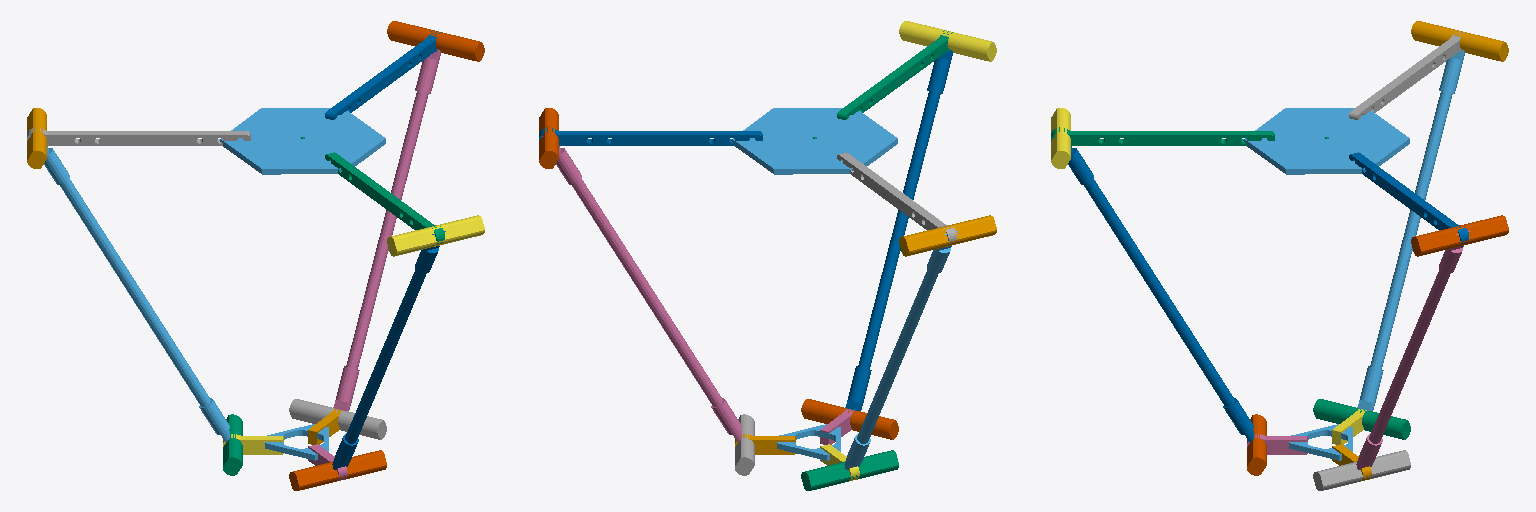
--- What the picture shows (computed from the rendered views, not written in the file) ---
3 views of the same robot in one strip: view 1: azimuth 30°, elevation 25°; view 2: azimuth 150°, elevation 25°; view 3: azimuth 270°, elevation 25° (orthographic).
Model delta with 21 links and 20 joints (15 revolute, 3 prismatic, 2 fixed), rooted at world, posed all joints at 0.
Links seen in each view (by area): view 1: base_link, passive_arm_3, passive_arm_2, passive_arm_1, active_arm_2, active_arm_3, active_arm_1, parallel_up_1, parallel_up_3, parallel_down_1, parallel_down_3, parallel_up_2 (+4 smaller); view 2: base_link, passive_arm_1, passive_arm_3, passive_arm_2, active_arm_3, active_arm_1, active_arm_2, parallel_up_2, parallel_up_1, parallel_down_2, parallel_down_1, parallel_up_3 (+3 smaller); view 3: base_link, passive_arm_2, passive_arm_1, passive_arm_3, active_arm_1, active_arm_2, active_arm_3, parallel_up_3, parallel_up_2, parallel_down_3, parallel_down_2, parallel_up_1 (+4 smaller).
Boxes of the visible links, x1=… form: base_link: x1=220, y1=108, x2=385, y2=174; passive_arm_3: x1=333, y1=49, x2=440, y2=427; passive_arm_2: x1=30, y1=136, x2=229, y2=442; passive_arm_1: x1=332, y1=231, x2=445, y2=469; active_arm_2: x1=27, y1=127, x2=250, y2=145; active_arm_3: x1=325, y1=30, x2=440, y2=119; active_arm_1: x1=325, y1=152, x2=444, y2=243; parallel_up_1: x1=387, y1=215, x2=484, y2=256; parallel_up_3: x1=387, y1=21, x2=484, y2=61; parallel_down_1: x1=289, y1=450, x2=386, y2=490; parallel_down_3: x1=289, y1=399, x2=386, y2=439; parallel_up_2: x1=27, y1=108, x2=46, y2=168; base_link: x1=732, y1=108, x2=897, y2=174; passive_arm_1: x1=845, y1=49, x2=952, y2=427; passive_arm_3: x1=542, y1=136, x2=741, y2=442; passive_arm_2: x1=844, y1=231, x2=957, y2=469; active_arm_3: x1=539, y1=127, x2=762, y2=145; active_arm_1: x1=837, y1=30, x2=952, y2=119; active_arm_2: x1=837, y1=152, x2=956, y2=243; parallel_up_2: x1=899, y1=215, x2=996, y2=256; parallel_up_1: x1=899, y1=21, x2=996, y2=61; parallel_down_2: x1=801, y1=450, x2=898, y2=490; parallel_down_1: x1=801, y1=399, x2=898, y2=439; parallel_up_3: x1=539, y1=108, x2=558, y2=168; base_link: x1=1244, y1=108, x2=1409, y2=174; passive_arm_2: x1=1357, y1=49, x2=1464, y2=427; passive_arm_1: x1=1054, y1=136, x2=1253, y2=442; passive_arm_3: x1=1356, y1=231, x2=1469, y2=469; active_arm_1: x1=1051, y1=127, x2=1274, y2=145; active_arm_2: x1=1349, y1=30, x2=1464, y2=119; active_arm_3: x1=1349, y1=152, x2=1468, y2=243; parallel_up_3: x1=1411, y1=215, x2=1508, y2=256; parallel_up_2: x1=1411, y1=21, x2=1508, y2=61; parallel_down_3: x1=1313, y1=450, x2=1410, y2=490; parallel_down_2: x1=1313, y1=399, x2=1410, y2=439; parallel_up_1: x1=1051, y1=108, x2=1070, y2=168.
Size in the robot's own frame: 0.26 by 0.2252 by 0.1762 metres.
17 mesh visuals loaded from 7 distinct referenced files (7 binary STL).

URDF robot description (delta):
<?xml version="1.0" ?>
<!-- =================================================================================== -->
<!-- |    This document was autogenerated by xacro from delta.urdf.xacro               | -->
<!-- |    EDITING THIS FILE BY HAND IS NOT RECOMMENDED                                 | -->
<!-- =================================================================================== -->
<robot name="delta">
  <gazebo>
    <plugin filename="libarm_robot_hw_sim.so" name="arm_ros_control">
      <robotNamespace>/</robotNamespace>
      <robotSimType>arm_gazebo/ArmRobotHWSim</robotSimType>
    </plugin>
  </gazebo>
  <link name="world"/>
  <link name="base_link">
    <visual>
      <origin rpy="0 0 0" xyz="0 0 0"/>
      <geometry>
        <mesh filename="package://delta/meshes/base_link.stl" scale="0.001 0.001 0.001"/>
      </geometry>
    </visual>
    <collision>
      <origin rpy="0 0 0" xyz="0. 0 0."/>
      <geometry>
        <mesh filename="package://delta/meshes/base_link.stl" scale="0.0001 0.0001 0.0001"/>
      </geometry>
    </collision>
    <inertial>
      <mass value="0.101"/>
      <origin xyz="0.0 0.0 -0.0015"/>
      <inertia ixx="3.5130112e-05" ixy="0.0" ixz="7.391e-19" iyy="3.5130112e-05" iyz="0.0" izz="7.0108029e-05"/>
    </inertial>
  </link>
  <joint name="fix_base" type="fixed">
    <parent link="world"/>
    <child link="base_link"/>
    <origin rpy="0 0 0" xyz="0. 0. 0."/>
  </joint>
  <link name="active_arm_1">
    <visual>
      <origin rpy="0 0 0" xyz="0 0 0"/>
      <geometry>
        <mesh filename="package://delta/meshes/active_arm.stl" scale="0.001 0.001 0.001"/>
      </geometry>
    </visual>
    <collision>
      <origin rpy="0 0 0" xyz="0. 0. 0."/>
      <geometry>
        <mesh filename="package://delta/meshes/active_arm.stl" scale="0.0001 0.0001 0.0001"/>
      </geometry>
    </collision>
    <inertial>
      <mass value="0.00457"/>
      <origin xyz="0.0 -0.042671 0.0"/>
      <inertia ixx="4.714e-06" ixy="0.0" ixz="0.0" iyy="2.577e-08" iyz="-8.235e-18" izz="4.707e-06"/>
    </inertial>
  </link>
  <link name="parallel_up_1">
    <visual>
      <origin rpy="0 0 0" xyz="0 0 0"/>
      <geometry>
        <mesh filename="package://delta/meshes/parallel_up.stl" scale="0.001 0.001 0.001"/>
      </geometry>
    </visual>
    <collision>
      <origin rpy="0 0 0" xyz="0. 0 0."/>
      <geometry>
        <mesh filename="package://delta/meshes/parallel_up.stl" scale="0.0001 0.0001 0.0001"/>
      </geometry>
    </collision>
    <inertial>
      <mass value="0.027"/>
      <origin xyz="0.0 0.0 0.0"/>
      <inertia ixx="3.16967e-07" ixy="0.0" ixz="0.0" iyy="5.926399e-06" iyz="2.4474e-08" izz="5.898139e-06"/>
    </inertial>
  </link>
  <link name="passive_arm_1">
    <visual>
      <origin rpy="0 0 0" xyz="0 0 0"/>
      <geometry>
        <mesh filename="package://delta/meshes/passive_arm.stl" scale="0.001 0.001 0.001"/>
      </geometry>
    </visual>
    <collision>
      <origin rpy="0 0 0" xyz="0 0 0"/>
      <geometry>
        <mesh filename="package://delta/meshes/passive_arm.stl" scale="0.0001 0.0001 0.0001"/>
      </geometry>
    </collision>
    <inertial>
      <mass value="0.011"/>
      <origin xyz="-0.00168 0.096 0.0"/>
      <inertia ixx="4.4636101e-05" ixy="7.8174e-08" ixz="0.0" iyy="8.2492e-08" iyz="1.379e-19" izz="4.4642e-05"/>
    </inertial>
  </link>
  <link name="parallel_down_1">
    <visual>
      <origin rpy="0 0 0" xyz="0 0 0"/>
      <geometry>
        <mesh filename="package://delta/meshes/parallel_down.stl" scale="0.001 0.001 0.001"/>
      </geometry>
    </visual>
    <collision>
      <origin rpy="0 0 0" xyz="0 0 0"/>
      <geometry>
        <mesh filename="package://delta/meshes/parallel_down.stl" scale="0.0001 0.0001 0.0001"/>
      </geometry>
    </collision>
    <inertial>
      <mass value="0.027"/>
      <origin xyz="0.0 0.0 0.0"/>
      <inertia ixx="3.16967e-07" ixy="1.095e-10" ixz="1.29e-10" iyy="5.926399e-06" iyz="2.4474e-08" izz="5.898139e-06"/>
    </inertial>
  </link>
  <link name="move_base_1">
    <visual>
      <origin rpy="0 0 0" xyz="0 0 0"/>
      <geometry>
        <mesh filename="package://delta/meshes/move_base.stl" scale="0.001 0.001 0.001"/>
      </geometry>
    </visual>
    <collision>
      <origin rpy="0 0 0" xyz="0 0 0"/>
      <geometry>
        <mesh filename="package://delta/meshes/move_base.stl" scale="0.0001 0.0001 0.0001"/>
      </geometry>
    </collision>
    <inertial>
      <mass value="0.007"/>
      <origin xyz="0.0 0.012536 0.0"/>
      <inertia ixx="4.91052e-07" ixy="0.0" ixz="0.0" iyy="6.2663e-08" iyz="3.4e-11" izz="4.59974e-07"/>
    </inertial>
  </link>
  <joint name="active_joint1" type="revolute">
    <parent link="base_link"/>
    <child link="active_arm_1"/>
    <origin rpy="0 0 0" xyz="0 -0.040721 0"/>
    <axis xyz="1 0 0"/>
    <limit effort="1" lower="-3.14" upper="3.14" velocity="1"/>
  </joint>
  <joint name="parallel_up_a_joint1" type="revolute">
    <parent link="active_arm_1"/>
    <child link="parallel_up_1"/>
    <origin rpy="-1.04619753 0 0" xyz="0 -0.09 0"/>
    <axis xyz="1 0 0"/>
    <limit effort="1" lower="-3.14" upper="3.14" velocity="1"/>
  </joint>
  <joint name="parallel_up_b_joint1" type="revolute">
    <parent link="parallel_up_1"/>
    <child link="passive_arm_1"/>
    <origin rpy="0. 0 0" xyz="0 0 0"/>
    <axis xyz="0 0 1"/>
    <limit effort="1" lower="-3.14" upper="3.14" velocity="1"/>
  </joint>
  <joint name="parallel_down_b_joint1" type="revolute">
    <parent link="passive_arm_1"/>
    <child link="parallel_down_1"/>
    <origin rpy="0 0 0" xyz="0 0.192 0"/>
    <axis xyz="0 0 1"/>
    <limit effort="1" lower="-3.14" upper="3.14" velocity="1"/>
  </joint>
  <joint name="parallel_down_a_joint1" type="revolute">
    <parent link="parallel_down_1"/>
    <child link="move_base_1"/>
    <origin rpy="1.04619753 0 0" xyz="0 0 0"/>
    <axis xyz="1 0 0"/>
    <limit effort="1" lower="-3.14" upper="3.14" velocity="1"/>
  </joint>
  <link name="active_arm_2">
    <visual>
      <origin rpy="0 0 0" xyz="0 0 0"/>
      <geometry>
        <mesh filename="package://delta/meshes/active_arm.stl" scale="0.001 0.001 0.001"/>
      </geometry>
    </visual>
    <collision>
      <origin rpy="0 0 0" xyz="0. 0. 0."/>
      <geometry>
        <mesh filename="package://delta/meshes/active_arm.stl" scale="0.0001 0.0001 0.0001"/>
      </geometry>
    </collision>
    <inertial>
      <mass value="0.00457"/>
      <origin xyz="0.0 -0.042671 0.0"/>
      <inertia ixx="4.714e-06" ixy="0.0" ixz="0.0" iyy="2.577e-08" iyz="-8.235e-18" izz="4.707e-06"/>
    </inertial>
  </link>
  <link name="parallel_up_2">
    <visual>
      <origin rpy="0 0 0" xyz="0 0 0"/>
      <geometry>
        <mesh filename="package://delta/meshes/parallel_up.stl" scale="0.001 0.001 0.001"/>
      </geometry>
    </visual>
    <collision>
      <origin rpy="0 0 0" xyz="0. 0 0."/>
      <geometry>
        <mesh filename="package://delta/meshes/parallel_up.stl" scale="0.0001 0.0001 0.0001"/>
      </geometry>
    </collision>
    <inertial>
      <mass value="0.027"/>
      <origin xyz="0.0 0.0 0.0"/>
      <inertia ixx="3.16967e-07" ixy="0.0" ixz="0.0" iyy="5.926399e-06" iyz="2.4474e-08" izz="5.898139e-06"/>
    </inertial>
  </link>
  <link name="passive_arm_2">
    <visual>
      <origin rpy="0 0 0" xyz="0 0 0"/>
      <geometry>
        <mesh filename="package://delta/meshes/passive_arm.stl" scale="0.001 0.001 0.001"/>
      </geometry>
    </visual>
    <collision>
      <origin rpy="0 0 0" xyz="0 0 0"/>
      <geometry>
        <mesh filename="package://delta/meshes/passive_arm.stl" scale="0.0001 0.0001 0.0001"/>
      </geometry>
    </collision>
    <inertial>
      <mass value="0.011"/>
      <origin xyz="-0.00168 0.096 0.0"/>
      <inertia ixx="4.4636101e-05" ixy="7.8174e-08" ixz="0.0" iyy="8.2492e-08" iyz="1.379e-19" izz="4.4642e-05"/>
    </inertial>
  </link>
  <link name="parallel_down_2">
    <visual>
      <origin rpy="0 0 0" xyz="0 0 0"/>
      <geometry>
        <mesh filename="package://delta/meshes/parallel_down.stl" scale="0.001 0.001 0.001"/>
      </geometry>
    </visual>
    <collision>
      <origin rpy="0 0 0" xyz="0 0 0"/>
      <geometry>
        <mesh filename="package://delta/meshes/parallel_down.stl" scale="0.0001 0.0001 0.0001"/>
      </geometry>
    </collision>
    <inertial>
      <mass value="0.027"/>
      <origin xyz="0.0 0.0 0.0"/>
      <inertia ixx="3.16967e-07" ixy="1.095e-10" ixz="1.29e-10" iyy="5.926399e-06" iyz="2.4474e-08" izz="5.898139e-06"/>
    </inertial>
  </link>
  <link name="move_base_2">
    <visual>
      <origin rpy="0 0 0" xyz="0 0 0"/>
      <geometry>
        <mesh filename="package://delta/meshes/move_base.stl" scale="0.001 0.001 0.001"/>
      </geometry>
    </visual>
    <collision>
      <origin rpy="0 0 0" xyz="0 0 0"/>
      <geometry>
        <mesh filename="package://delta/meshes/move_base.stl" scale="0.0001 0.0001 0.0001"/>
      </geometry>
    </collision>
    <inertial>
      <mass value="0.007"/>
      <origin xyz="0.0 0.012536 0.0"/>
      <inertia ixx="4.91052e-07" ixy="0.0" ixz="0.0" iyy="6.2663e-08" iyz="3.4e-11" izz="4.59974e-07"/>
    </inertial>
  </link>
  <joint name="active_joint2" type="revolute">
    <parent link="base_link"/>
    <child link="active_arm_2"/>
    <origin rpy="0 0 -2.09439504" xyz="-0.03526542046750613 0.020360499999999997 0."/>
    <axis xyz="1 0 0"/>
    <limit effort="1" lower="-3.14" upper="3.14" velocity="1"/>
  </joint>
  <joint name="parallel_up_a_joint2" type="revolute">
    <parent link="active_arm_2"/>
    <child link="parallel_up_2"/>
    <origin rpy="-1.04619753 0 0" xyz="0 -0.09 0"/>
    <axis xyz="1 0 0"/>
    <limit effort="1" lower="-3.14" upper="3.14" velocity="1"/>
  </joint>
  <joint name="parallel_up_b_joint2" type="revolute">
    <parent link="parallel_up_2"/>
    <child link="passive_arm_2"/>
    <origin rpy="0 0 0" xyz="0 0 0"/>
    <axis xyz="0 0 1"/>
    <limit effort="1" lower="-3.14" upper="3.14" velocity="1"/>
  </joint>
  <joint name="parallel_down_b_joint2" type="revolute">
    <parent link="passive_arm_2"/>
    <child link="parallel_down_2"/>
    <origin rpy="0 0 0" xyz="0 0.192 0."/>
    <axis xyz="0 0 1"/>
    <limit effort="1" lower="-3.14" upper="3.14" velocity="1"/>
  </joint>
  <joint name="parallel_down_a_joint2" type="revolute">
    <parent link="parallel_down_2"/>
    <child link="move_base_2"/>
    <origin rpy="1.04619753 0 0" xyz="0 0 0"/>
    <axis xyz="1 0 0"/>
    <limit effort="1" lower="-3.14" upper="3.14" velocity="1"/>
  </joint>
  <link name="active_arm_3">
    <visual>
      <origin rpy="0 0 0" xyz="0 0 0"/>
      <geometry>
        <mesh filename="package://delta/meshes/active_arm.stl" scale="0.001 0.001 0.001"/>
      </geometry>
    </visual>
    <collision>
      <origin rpy="0 0 0" xyz="0. 0. 0."/>
      <geometry>
        <mesh filename="package://delta/meshes/active_arm.stl" scale="0.0001 0.0001 0.0001"/>
      </geometry>
    </collision>
    <inertial>
      <mass value="0.00457"/>
      <origin xyz="0.0 -0.042671 0.0"/>
      <inertia ixx="4.714e-06" ixy="0.0" ixz="0.0" iyy="2.577e-08" iyz="-8.235e-18" izz="4.707e-06"/>
    </inertial>
  </link>
  <link name="parallel_up_3">
    <visual>
      <origin rpy="0 0 0" xyz="0 0 0"/>
      <geometry>
        <mesh filename="package://delta/meshes/parallel_up.stl" scale="0.001 0.001 0.001"/>
      </geometry>
    </visual>
    <collision>
      <origin rpy="0 0 0" xyz="0. 0 0."/>
      <geometry>
        <mesh filename="package://delta/meshes/parallel_up.stl" scale="0.0001 0.0001 0.0001"/>
      </geometry>
    </collision>
    <inertial>
      <mass value="0.027"/>
      <origin xyz="0.0 0.0 0.0"/>
      <inertia ixx="3.16967e-07" ixy="0.0" ixz="0.0" iyy="5.926399e-06" iyz="2.4474e-08" izz="5.898139e-06"/>
    </inertial>
  </link>
  <link name="passive_arm_3">
    <visual>
      <origin rpy="0 0 0" xyz="0 0 0"/>
      <geometry>
        <mesh filename="package://delta/meshes/passive_arm.stl" scale="0.001 0.001 0.001"/>
      </geometry>
    </visual>
    <collision>
      <origin rpy="0 0 0" xyz="0 0 0"/>
      <geometry>
        <mesh filename="package://delta/meshes/passive_arm.stl" scale="0.0001 0.0001 0.0001"/>
      </geometry>
    </collision>
    <inertial>
      <mass value="0.011"/>
      <origin xyz="-0.00168 0.096 0.0"/>
      <inertia ixx="4.4636101e-05" ixy="7.8174e-08" ixz="0.0" iyy="8.2492e-08" iyz="1.379e-19" izz="4.4642e-05"/>
    </inertial>
  </link>
  <link name="parallel_down_3">
    <visual>
      <origin rpy="0 0 0" xyz="0 0 0"/>
      <geometry>
        <mesh filename="package://delta/meshes/parallel_down.stl" scale="0.001 0.001 0.001"/>
      </geometry>
    </visual>
    <collision>
      <origin rpy="0 0 0" xyz="0 0 0"/>
      <geometry>
        <mesh filename="package://delta/meshes/parallel_down.stl" scale="0.0001 0.0001 0.0001"/>
      </geometry>
    </collision>
    <inertial>
      <mass value="0.027"/>
      <origin xyz="0.0 0.0 0.0"/>
      <inertia ixx="3.16967e-07" ixy="1.095e-10" ixz="1.29e-10" iyy="5.926399e-06" iyz="2.4474e-08" izz="5.898139e-06"/>
    </inertial>
  </link>
  <link name="move_base_3">
    <visual>
      <origin rpy="0 0 0" xyz="0 0 0"/>
      <geometry>
        <mesh filename="package://delta/meshes/move_base.stl" scale="0.001 0.001 0.001"/>
      </geometry>
    </visual>
    <collision>
      <origin rpy="0 0 0" xyz="0 0 0"/>
      <geometry>
        <mesh filename="package://delta/meshes/move_base.stl" scale="0.0001 0.0001 0.0001"/>
      </geometry>
    </collision>
    <inertial>
      <mass value="0.007"/>
      <origin xyz="0.0 0.012536 0.0"/>
      <inertia ixx="4.91052e-07" ixy="0.0" ixz="0.0" iyy="6.2663e-08" iyz="3.4e-11" izz="4.59974e-07"/>
    </inertial>
  </link>
  <joint name="active_joint3" type="revolute">
    <parent link="base_link"/>
    <child link="active_arm_3"/>
    <origin rpy="0 0 2.09439504" xyz="0.03526542046750613 0.020360499999999997 0."/>
    <axis xyz="1 0 0"/>
    <limit effort="1" lower="-3.14" upper="3.14" velocity="1"/>
  </joint>
  <joint name="parallel_up_a_joint3" type="revolute">
    <parent link="active_arm_3"/>
    <child link="parallel_up_3"/>
    <origin rpy="-1.04619753 0 0" xyz="0 -0.09 0"/>
    <axis xyz="1 0 0"/>
    <limit effort="1" lower="-3.14" upper="3.14" velocity="1"/>
  </joint>
  <joint name="parallel_up_b_joint3" type="revolute">
    <parent link="parallel_up_3"/>
    <child link="passive_arm_3"/>
    <origin rpy="0 0 0" xyz="0 0 0"/>
    <axis xyz="0 0 1"/>
    <limit effort="1" lower="-3.14" upper="3.14" velocity="1"/>
  </joint>
  <joint name="parallel_down_b_joint3" type="revolute">
    <parent link="passive_arm_3"/>
    <child link="parallel_down_3"/>
    <origin rpy="0 0 0" xyz="0 0.192 0."/>
    <axis xyz="0 0 1"/>
    <limit effort="1" lower="-3.14" upper="3.14" velocity="1"/>
  </joint>
  <joint name="parallel_down_a_joint3" type="revolute">
    <parent link="parallel_down_3"/>
    <child link="move_base_3"/>
    <origin rpy="1.04619753 0 0" xyz="0 0 0"/>
    <axis xyz="1 0 0"/>
    <limit effort="1" lower="-3.14" upper="3.14" velocity="1"/>
  </joint>
  <link name="move_EE">
    <visual>
      <origin rpy="0 0 0" xyz="0 0 0"/>
      <geometry>
        <mesh filename="package://delta/meshes/move_EE.stl" scale="0.001 0.001 0.001"/>
      </geometry>
    </visual>
    <collision>
      <origin rpy="0 0 0" xyz="0. 0 0."/>
      <geometry>
        <mesh filename="package://delta/meshes/move_EE.stl" scale="0.001 0.001 0.001"/>
      </geometry>
    </collision>
    <inertial>
      <mass value="0.01"/>
      <origin xyz="0.0 0.0 0.0"/>
      <inertia ixx="0.0" ixy="0.0" ixz="0.0" iyy="0.0" iyz="0.0" izz="0.0"/>
    </inertial>
  </link>
  <joint name="con_move_base_EE_1" type="fixed">
    <parent link="move_base_1"/>
    <child link="move_EE"/>
    <origin rpy="0 0 0" xyz="0. 0.03465 0."/>
  </joint>
  <gazebo>
    <joint name="con_move_base_EE_2" type="fixed">
      <parent>move_base_2</parent>
      <child>move_EE</child>
      <origin rpy="0 0 0" xyz="0. 0.03465 0."/>
    </joint>
    <joint name="con_move_base_EE_3" type="fixed">
      <parent>move_base_3</parent>
      <child>move_EE</child>
      <origin rpy="0 0 0" xyz="0. 0.03465 0."/>
    </joint>
  </gazebo>
  <link name="computer_EE">
    <visual>
      <origin rpy="0 0 0" xyz="0 0 0"/>
      <geometry>
        <sphere radius="0.001"/>
      </geometry>
    </visual>
    <inertial>
      <mass value="0.01"/>
      <origin xyz="0.0 0.0 0.0"/>
      <inertia ixx="0.0" ixy="0.0" ixz="0.0" iyy="0.0" iyz="0.0" izz="0.0"/>
    </inertial>
  </link>
  <link name="computer_x">
    <visual>
      <origin rpy="0 0 0" xyz="0 0 0"/>
      <geometry>
        <sphere radius="0.001"/>
      </geometry>
    </visual>
    <inertial>
      <mass value="0.01"/>
      <origin xyz="0.0 0.0 0.0"/>
      <inertia ixx="0.0" ixy="0.0" ixz="0.0" iyy="0.0" iyz="0.0" izz="0.0"/>
    </inertial>
  </link>
  <link name="computer_y">
    <visual>
      <origin rpy="0 0 0" xyz="0 0 0"/>
      <geometry>
        <sphere radius="0.001"/>
      </geometry>
    </visual>
    <inertial>
      <mass value="0.01"/>
      <origin xyz="0.0 0.0 0.0"/>
      <inertia ixx="0.0" ixy="0.0" ixz="0.0" iyy="0.0" iyz="0.0" izz="0.0"/>
    </inertial>
  </link>
  <joint name="computer_x_joint" type="prismatic">
    <parent link="base_link"/>
    <child link="computer_x"/>
    <origin rpy="0 0 0" xyz="0. 0. 0."/>
    <axis xyz="1 0 0"/>
    <limit effort="10" lower="-100" upper="100" velocity="10"/>
  </joint>
  <joint name="computer_y_joint" type="prismatic">
    <parent link="computer_x"/>
    <child link="computer_y"/>
    <origin rpy="0 0 0" xyz="0. 0. 0."/>
    <axis xyz="0 1 0"/>
    <limit effort="10" lower="-100" upper="100" velocity="10"/>
  </joint>
  <joint name="computer_EE_joint" type="prismatic">
    <parent link="computer_y"/>
    <child link="computer_EE"/>
    <origin rpy="0 0 0" xyz="0. 0. 0."/>
    <axis xyz="0 0 1"/>
    <limit effort="10" lower="-100" upper="100" velocity="10"/>
  </joint>
  <transmission name="trans_active_joint1">
    <type>transmission_interface/SimpleTransmission</type>
    <actuator name="active_joint1_motor">
      <mechanicalReduction>1</mechanicalReduction>
    </actuator>
    <joint name="active_joint1">
      <hardwareInterface>hardware_interface/EffortJointInterface</hardwareInterface>
    </joint>
  </transmission>
  <transmission name="trans_parallel_up_a_joint1">
    <type>transmission_interface/SimpleTransmission</type>
    <actuator name="parallel_up_a_joint1_motor">
      <mechanicalReduction>1</mechanicalReduction>
    </actuator>
    <joint name="parallel_up_a_joint1">
      <hardwareInterface>hardware_interface/EffortJointInterface</hardwareInterface>
    </joint>
  </transmission>
  <transmission name="trans_parallel_up_b_joint1">
    <type>transmission_interface/SimpleTransmission</type>
    <actuator name="parallel_up_b_joint1_motor">
      <mechanicalReduction>1</mechanicalReduction>
    </actuator>
    <joint name="parallel_up_b_joint1">
      <hardwareInterface>hardware_interface/EffortJointInterface</hardwareInterface>
    </joint>
  </transmission>
  <transmission name="trans_parallel_down_a_joint1">
    <type>transmission_interface/SimpleTransmission</type>
    <actuator name="parallel_up_down_joint1_motor">
      <mechanicalReduction>1</mechanicalReduction>
    </actuator>
    <joint name="parallel_down_a_joint1">
      <hardwareInterface>hardware_interface/EffortJointInterface</hardwareInterface>
    </joint>
  </transmission>
  <transmission name="trans_parallel_down_b_joint1">
    <type>transmission_interface/SimpleTransmission</type>
    <actuator name="parallel_down_b_joint1_motor">
      <mechanicalReduction>1</mechanicalReduction>
    </actuator>
    <joint name="parallel_down_b_joint1">
      <hardwareInterface>hardware_interface/EffortJointInterface</hardwareInterface>
    </joint>
  </transmission>
  <transmission name="trans_active_joint2">
    <type>transmission_interface/SimpleTransmission</type>
    <actuator name="active_joint2_motor">
      <mechanicalReduction>1</mechanicalReduction>
    </actuator>
    <joint name="active_joint2">
      <hardwareInterface>hardware_interface/EffortJointInterface</hardwareInterface>
    </joint>
  </transmission>
  <transmission name="trans_parallel_up_a_joint2">
    <type>transmission_interface/SimpleTransmission</type>
    <actuator name="parallel_up_a_joint2_motor">
      <mechanicalReduction>1</mechanicalReduction>
    </actuator>
    <joint name="parallel_up_a_joint2">
      <hardwareInterface>hardware_interface/EffortJointInterface</hardwareInterface>
    </joint>
  </transmission>
  <transmission name="trans_parallel_up_b_joint2">
    <type>transmission_interface/SimpleTransmission</type>
    <actuator name="parallel_up_b_joint2_motor">
      <mechanicalReduction>1</mechanicalReduction>
    </actuator>
    <joint name="parallel_up_b_joint2">
      <hardwareInterface>hardware_interface/EffortJointInterface</hardwareInterface>
    </joint>
  </transmission>
  <transmission name="trans_parallel_down_a_joint2">
    <type>transmission_interface/SimpleTransmission</type>
    <actuator name="parallel_up_down_joint2_motor">
      <mechanicalReduction>1</mechanicalReduction>
    </actuator>
    <joint name="parallel_down_a_joint2">
      <hardwareInterface>hardware_interface/EffortJointInterface</hardwareInterface>
    </joint>
  </transmission>
  <transmission name="trans_parallel_down_b_joint2">
    <type>transmission_interface/SimpleTransmission</type>
    <actuator name="parallel_down_b_joint2_motor">
      <mechanicalReduction>1</mechanicalReduction>
    </actuator>
    <joint name="parallel_down_b_joint2">
      <hardwareInterface>hardware_interface/EffortJointInterface</hardwareInterface>
    </joint>
  </transmission>
  <transmission name="trans_active_joint3">
    <type>transmission_interface/SimpleTransmission</type>
    <actuator name="active_joint3_motor">
      <mechanicalReduction>1</mechanicalReduction>
    </actuator>
    <joint name="active_joint3">
      <hardwareInterface>hardware_interface/EffortJointInterface</hardwareInterface>
    </joint>
  </transmission>
  <transmission name="trans_parallel_up_a_joint3">
    <type>transmission_interface/SimpleTransmission</type>
    <actuator name="parallel_up_a_joint3_motor">
      <mechanicalReduction>1</mechanicalReduction>
    </actuator>
    <joint name="parallel_up_a_joint3">
      <hardwareInterface>hardware_interface/EffortJointInterface</hardwareInterface>
    </joint>
  </transmission>
  <transmission name="trans_parallel_up_b_joint3">
    <type>transmission_interface/SimpleTransmission</type>
    <actuator name="parallel_up_b_joint3_motor">
      <mechanicalReduction>1</mechanicalReduction>
    </actuator>
    <joint name="parallel_up_b_joint3">
      <hardwareInterface>hardware_interface/EffortJointInterface</hardwareInterface>
    </joint>
  </transmission>
  <transmission name="trans_parallel_down_a_joint3">
    <type>transmission_interface/SimpleTransmission</type>
    <actuator name="parallel_up_down_joint3_motor">
      <mechanicalReduction>1</mechanicalReduction>
    </actuator>
    <joint name="parallel_down_a_joint3">
      <hardwareInterface>hardware_interface/EffortJointInterface</hardwareInterface>
    </joint>
  </transmission>
  <transmission name="trans_parallel_down_b_joint3">
    <type>transmission_interface/SimpleTransmission</type>
    <actuator name="parallel_down_b_joint3_motor">
      <mechanicalReduction>1</mechanicalReduction>
    </actuator>
    <joint name="parallel_down_b_joint3">
      <hardwareInterface>hardware_interface/EffortJointInterface</hardwareInterface>
    </joint>
  </transmission>
  <transmission name="trans_computer_x_joint">
    <type>transmission_interface/SimpleTransmission</type>
    <actuator name="computer_x_joint_motor">
      <mechanicalReduction>1</mechanicalReduction>
    </actuator>
    <joint name="computer_x_joint">
      <hardwareInterface>hardware_interface/EffortJointInterface</hardwareInterface>
    </joint>
  </transmission>
  <transmission name="trans_computer_y_joint">
    <type>transmission_interface/SimpleTransmission</type>
    <actuator name="computer_y_joint_motor">
      <mechanicalReduction>1</mechanicalReduction>
    </actuator>
    <joint name="computer_y_joint">
      <hardwareInterface>hardware_interface/EffortJointInterface</hardwareInterface>
    </joint>
  </transmission>
  <transmission name="trans_computer_EE_joint">
    <type>transmission_interface/SimpleTransmission</type>
    <actuator name="computer_EE_joint_motor">
      <mechanicalReduction>1</mechanicalReduction>
    </actuator>
    <joint name="computer_EE_joint">
      <hardwareInterface>hardware_interface/EffortJointInterface</hardwareInterface>
    </joint>
  </transmission>
</robot>
